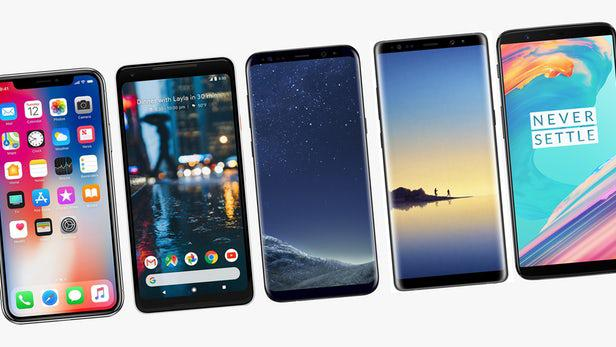Smartphone: (116, 57, 258, 313), (0, 67, 131, 322), (245, 46, 378, 295), (374, 34, 507, 282), (493, 22, 616, 272)
